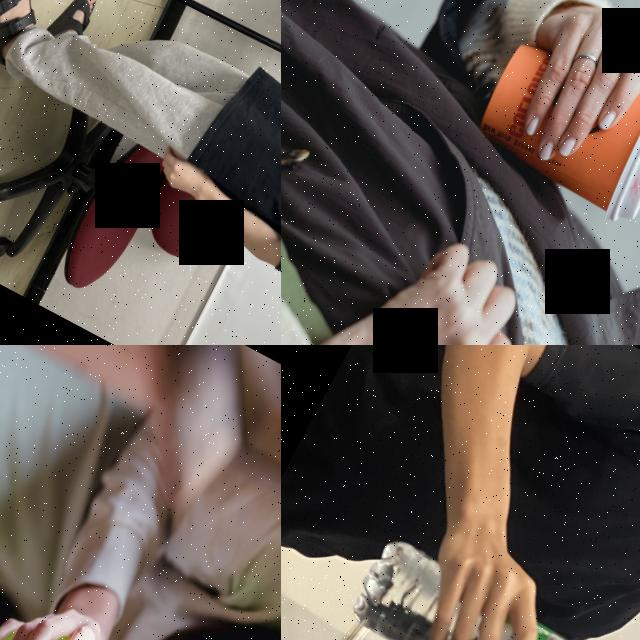bottle: (338, 517, 633, 640)
cup: (462, 0, 640, 231)
